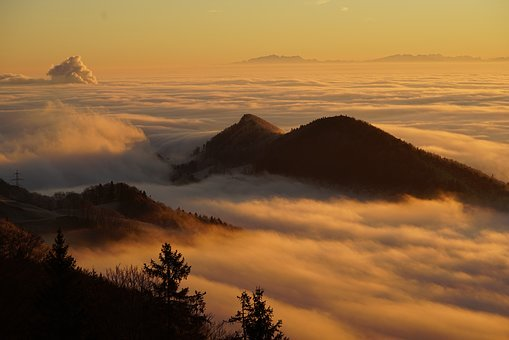mountain: (1, 166, 270, 331), (170, 101, 500, 210)
sky: (1, 7, 507, 134)
